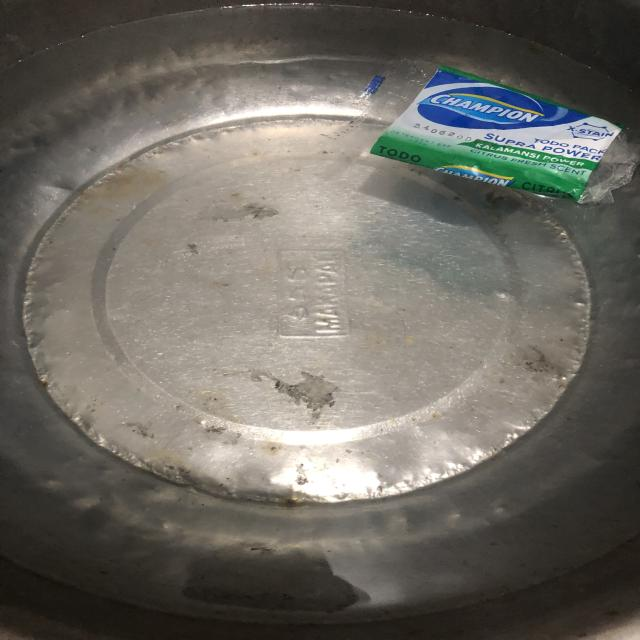Plastic Wrapper: (352, 49, 639, 226)
